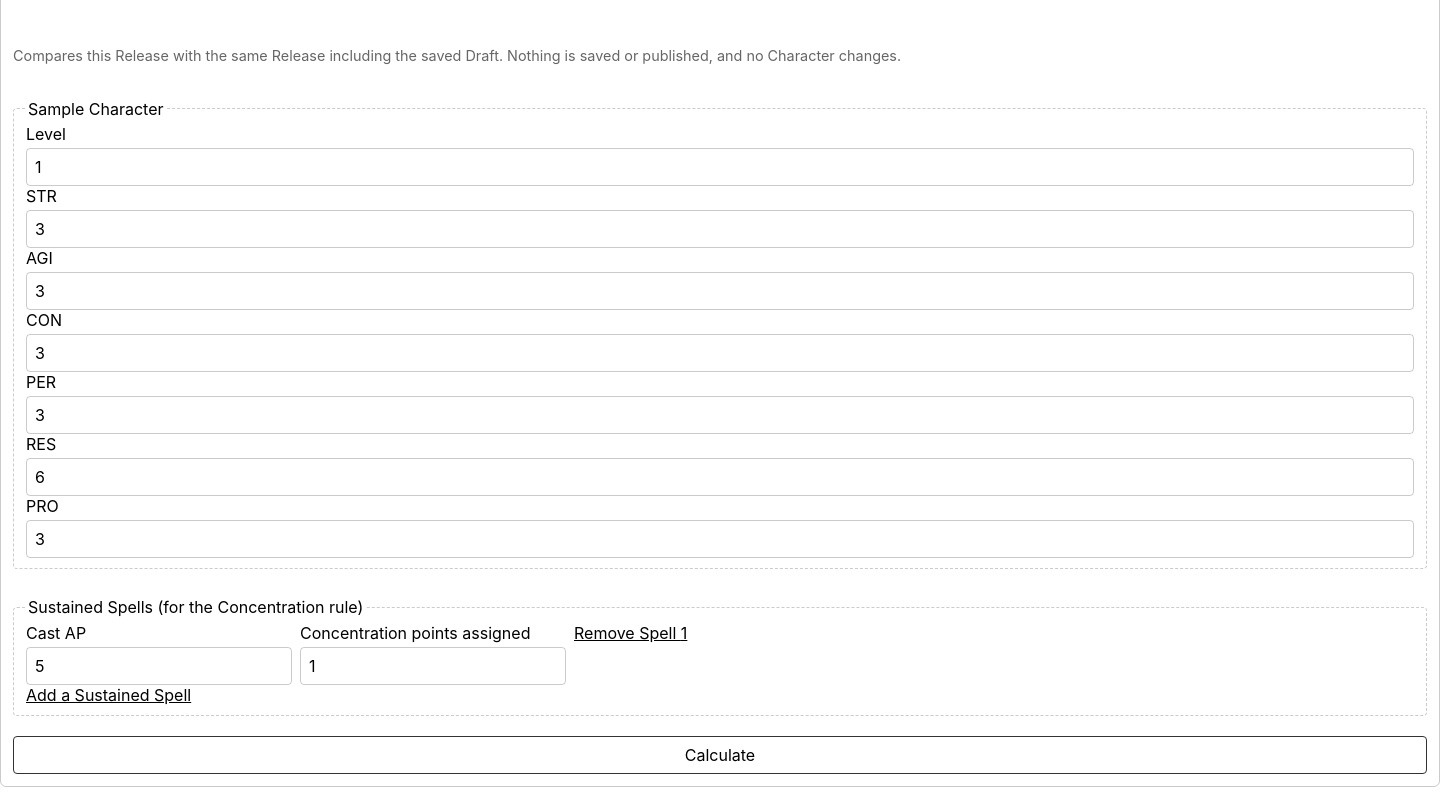
it: RULES-WO1 authored-rule preview › sends the saved Draft and a sample Character; shows values with their status and the Concentration preview as preview only
(page scrolled)
Click the button with test id "authored-preview-run". click: coordinates (720, 755)
box: [13, 736, 1427, 774]
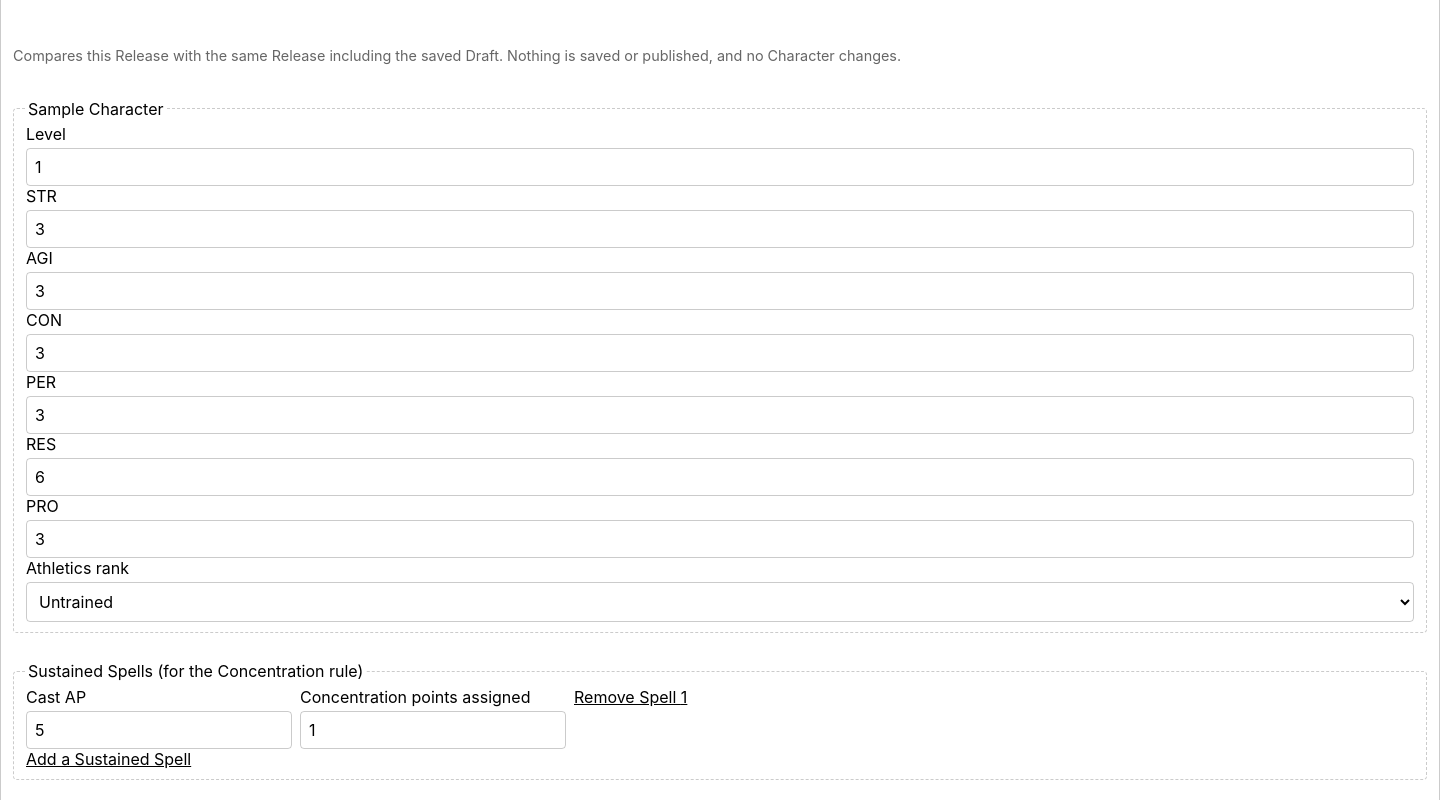
Check: the dropdown named "Sample Athletics rank" is shown, box [26, 582, 1414, 622]
